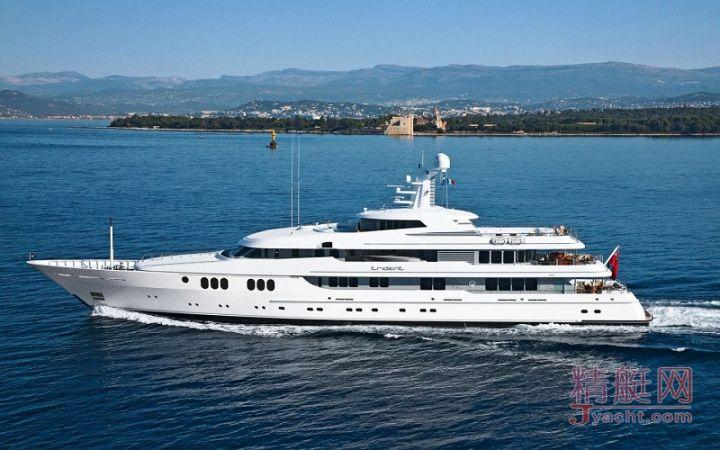yacht: (34, 175, 649, 331)
